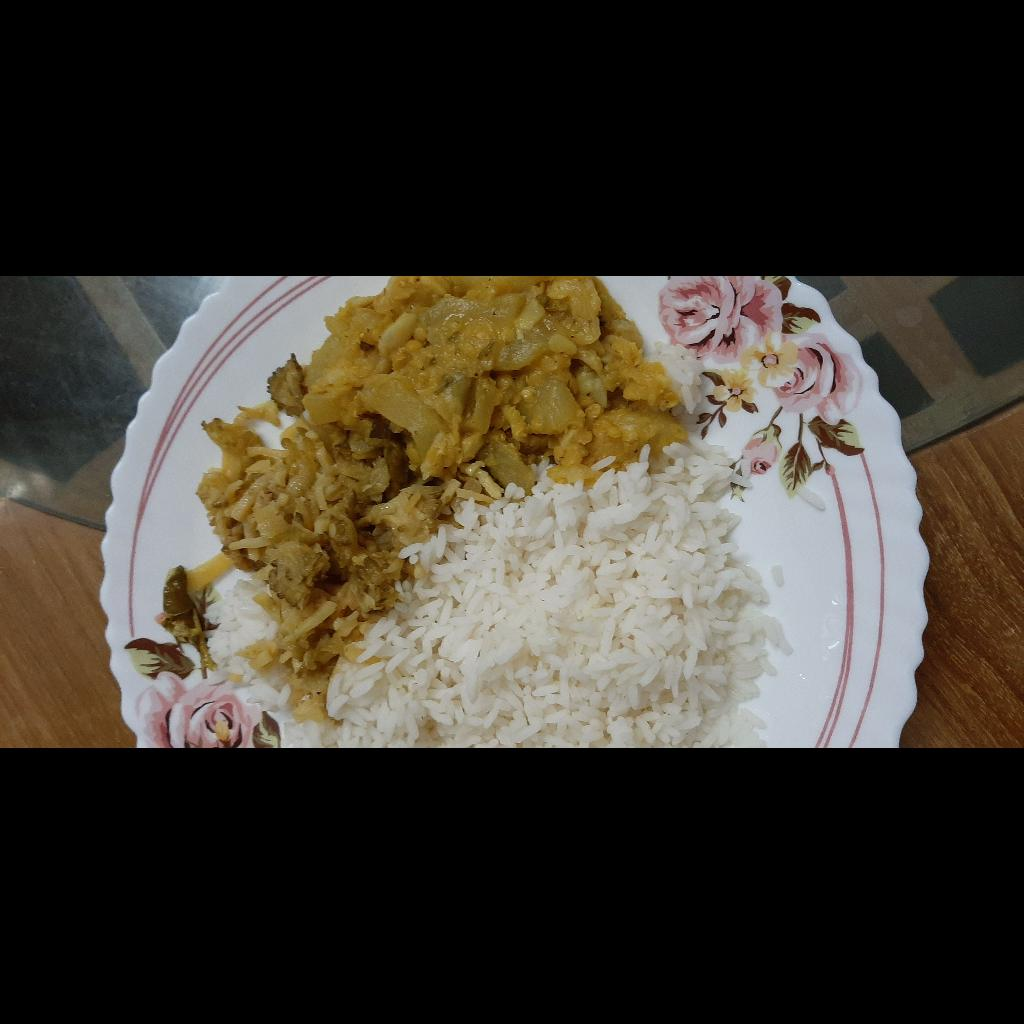daal: (515, 334, 680, 485)
korola-vaji: (197, 357, 504, 720)
lau: (303, 276, 647, 491)
rice: (201, 430, 794, 748)
